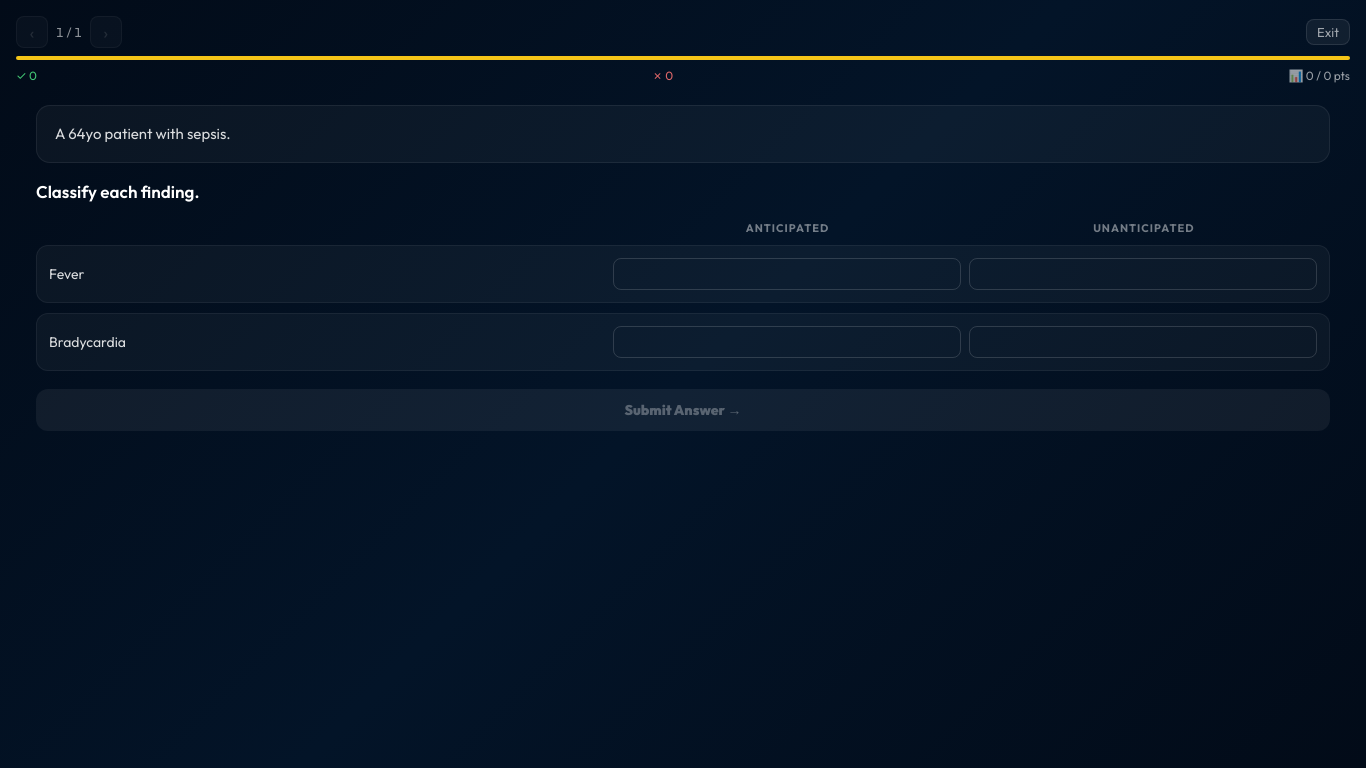
Test: NGNSessionScreen › renders the exit button and opens the exit modal
Click the button with test id "ngn-session-exit-btn": {"x": 1328, "y": 32} left=1306, top=19, right=1350, bottom=45
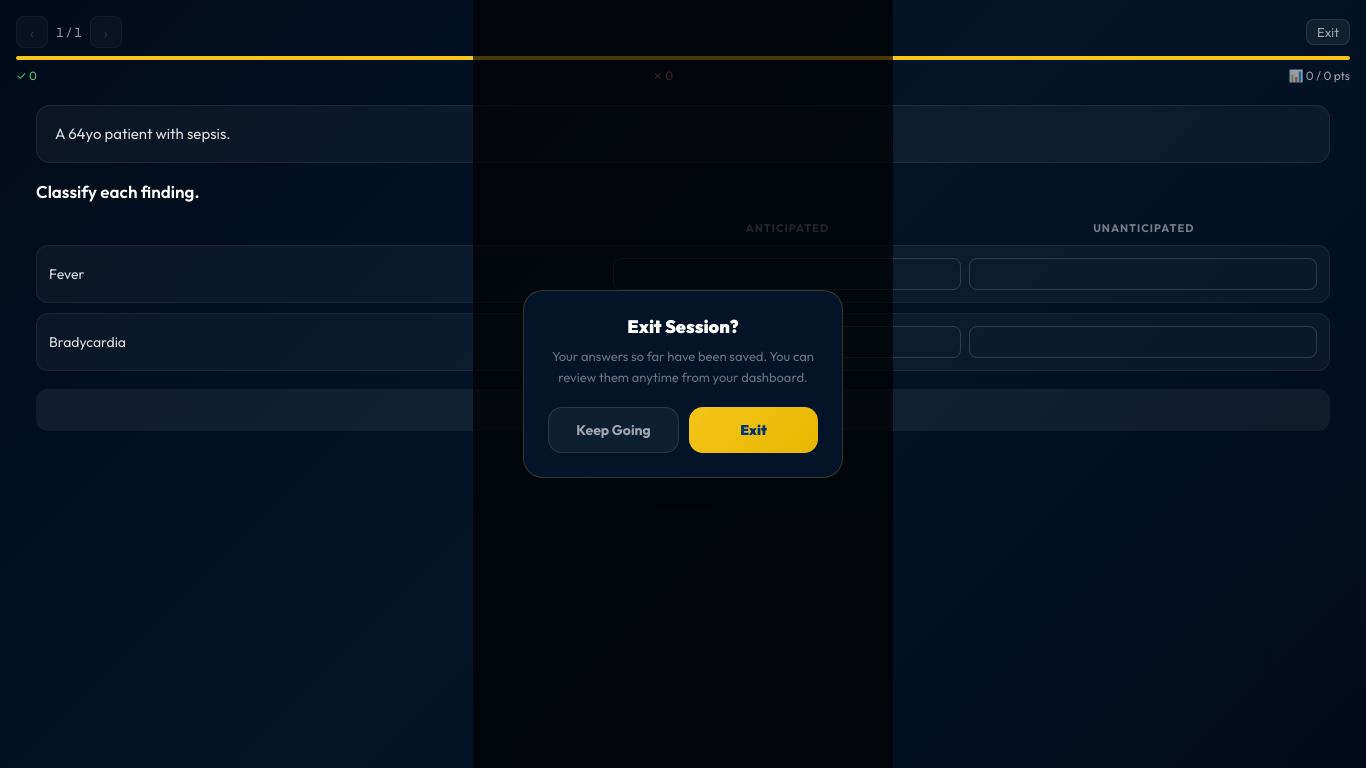
Expected: the text "Exit Session?" is shown, left=627, top=315, right=739, bottom=338
